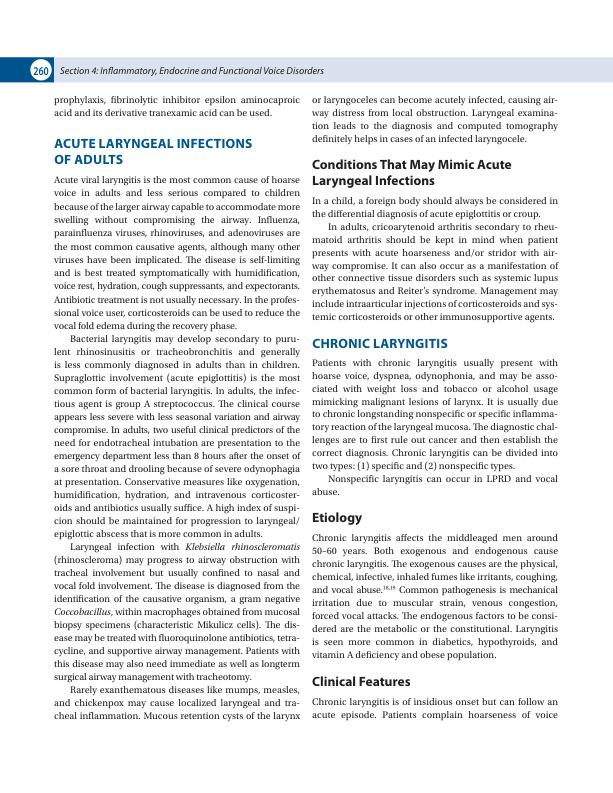header: (59, 66, 325, 77)
section-heading: (53, 138, 253, 166), (311, 337, 449, 349)
sub-section-heading: (310, 158, 513, 189), (311, 675, 411, 687), (312, 511, 363, 525)
text: (53, 175, 301, 723), (311, 358, 560, 497), (311, 533, 559, 662), (311, 196, 560, 324), (310, 95, 559, 146), (311, 696, 560, 722), (53, 95, 301, 118)
